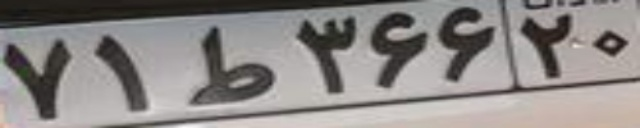0: (587, 29, 635, 58)
1: (91, 33, 148, 112)
2: (519, 12, 573, 79)
3: (295, 14, 362, 94)
6: (433, 6, 498, 83), (368, 11, 428, 89)
7: (3, 38, 70, 121)
taa: (183, 25, 274, 104)
